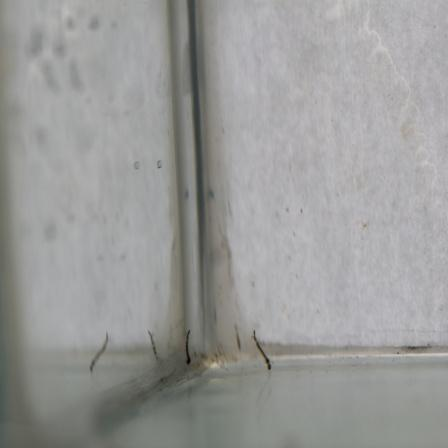Jentik-Nyamuk: (251, 328, 275, 374), (180, 328, 196, 369)
